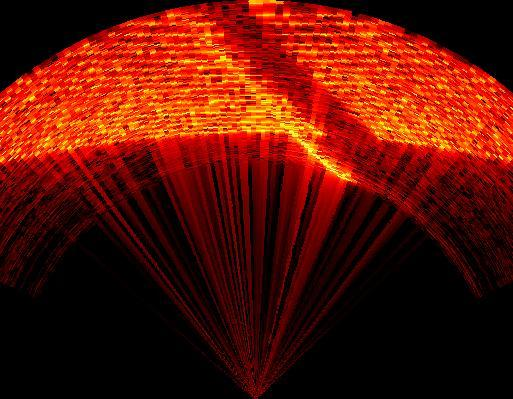pipe: (196, 4, 387, 174)
